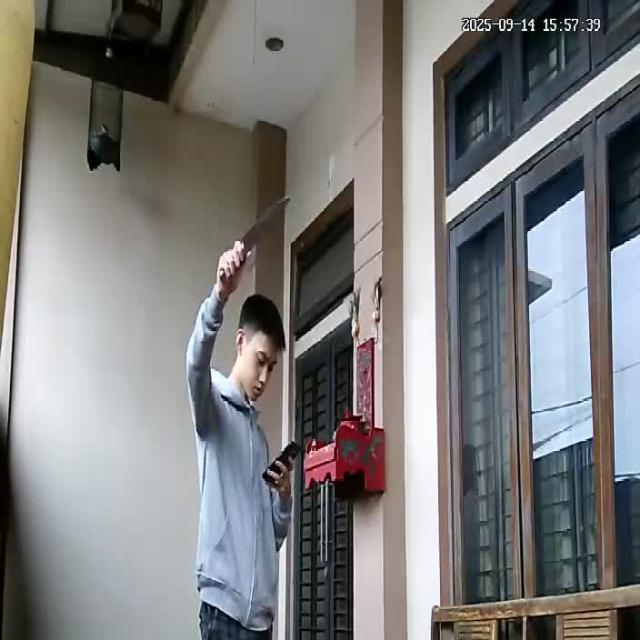senjata_tajam: (239, 195, 291, 254)
